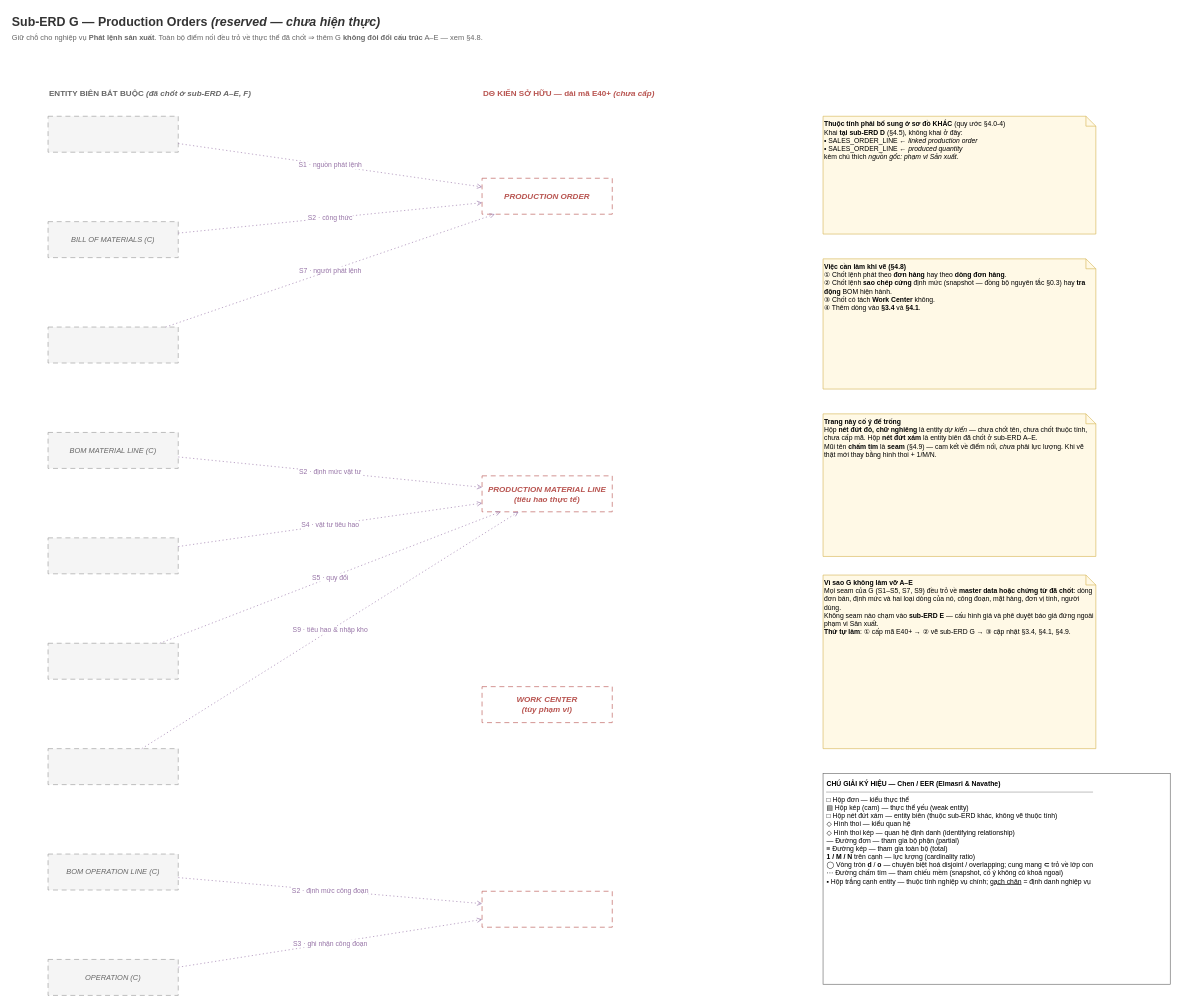
The diagram is 1181 pixels wide and 1006 high, and some of its shapes have lost their labels. The shapes that lost their labels are listed below. From the top down, each one's centre as x and y in pixels, then its label:
the point at 112,134: SALES ORDER LINE (D)
the point at 112,344: USER (A)
the point at 112,555: ITEM + 4 lớp con (B)
the point at 112,661: UNIT OF MEASURE (B)
the point at 112,766: STOCK MOVE (F)
the point at 546,909: PRODUCTION OPERATION LINE (công đoạn đã thực hiện)
